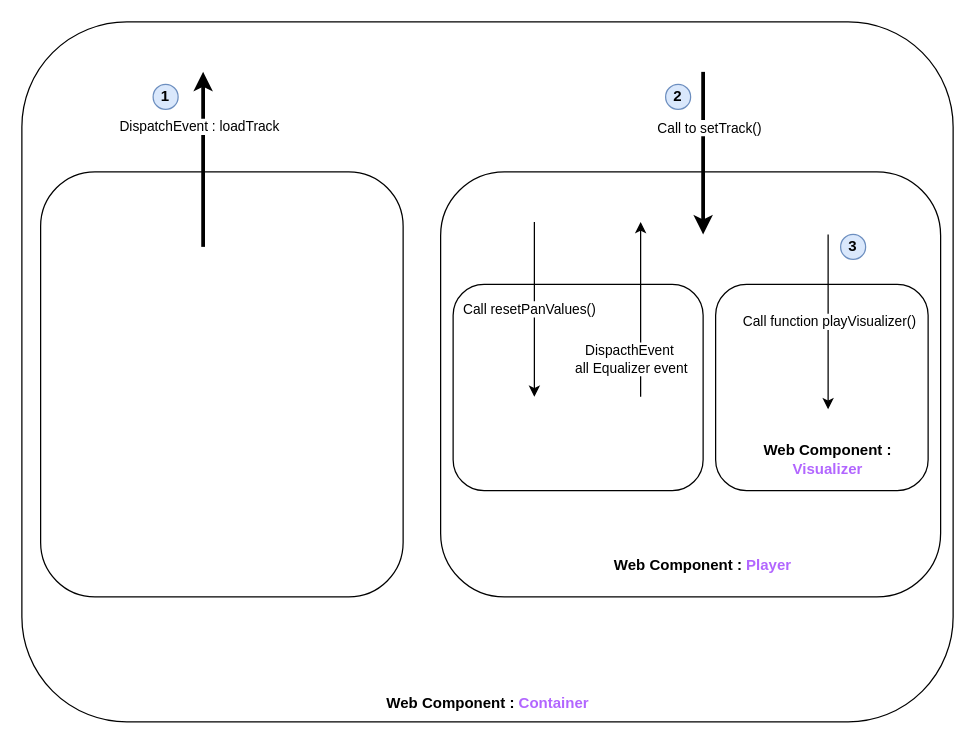
Some shapes in this 975 by 744 pixel diagram are drawn without their labels. Each missing label, with the centre of its shape:
Web Component : Equalizer: pixel 577 387
Web Component : Playlist: pixel 221 384
